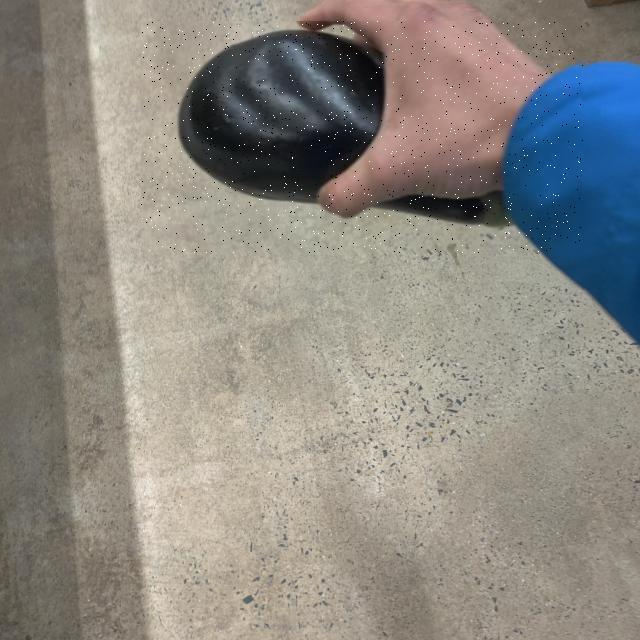Egg Plant: (142, 22, 584, 254)
